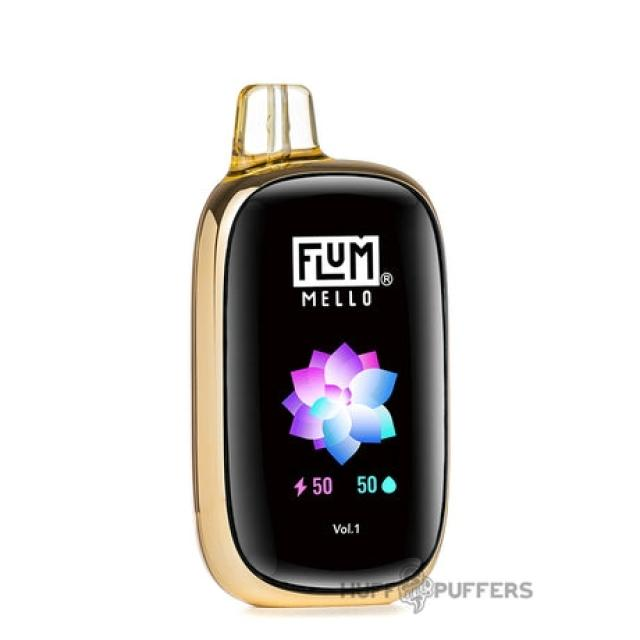Hazard: (189, 81, 451, 608)
